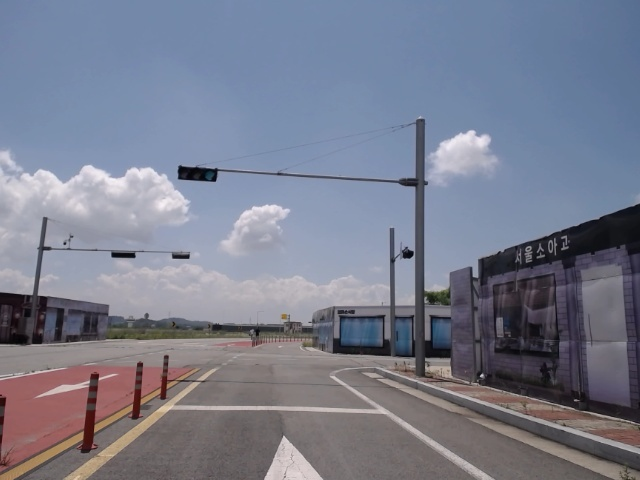green_3: (179, 168, 216, 182)
